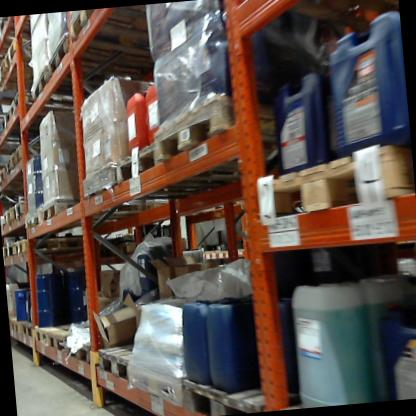pallet: (247, 131, 414, 226), (154, 80, 303, 182), (111, 128, 281, 205), (83, 152, 239, 217), (45, 22, 162, 93), (68, 3, 183, 68), (179, 356, 304, 415), (8, 231, 127, 269), (41, 188, 164, 222), (29, 62, 124, 106), (125, 355, 183, 414), (9, 89, 86, 122), (98, 340, 151, 385), (2, 32, 44, 80), (36, 321, 101, 351), (63, 329, 109, 369), (0, 52, 41, 93), (45, 326, 94, 357), (7, 142, 45, 173), (22, 209, 45, 238), (0, 20, 15, 60), (11, 196, 31, 225), (21, 320, 41, 340), (0, 113, 13, 137), (13, 316, 28, 336), (5, 208, 17, 229), (4, 244, 13, 265), (0, 123, 4, 145)
